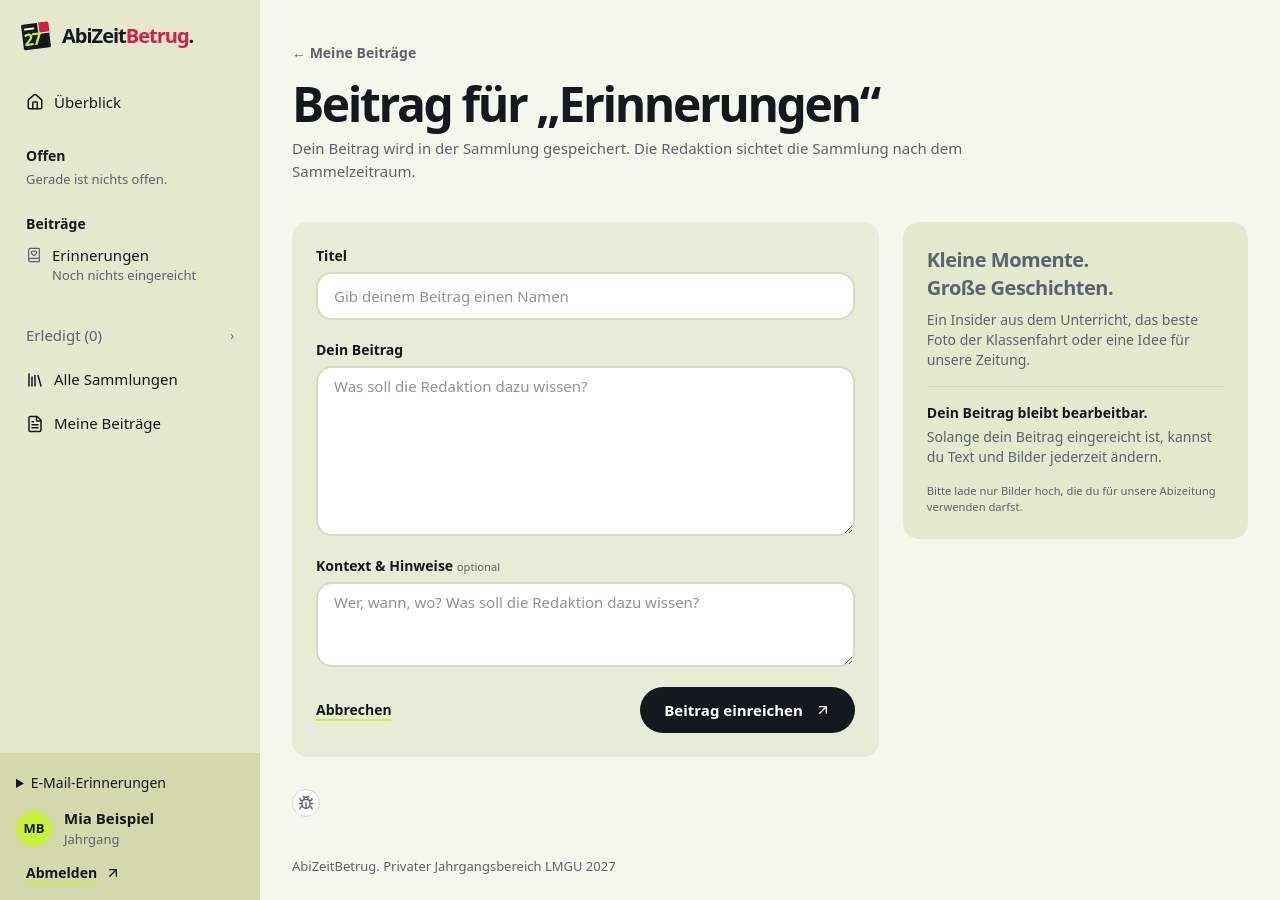
Test: contribution submission › keeps entered fields visible when the server rejects a stale submission
In the field with placeholder "Gib deinem Beitrag einen Namen": [585, 296] box [316, 272, 855, 320], type "Die letzte Freistunde"
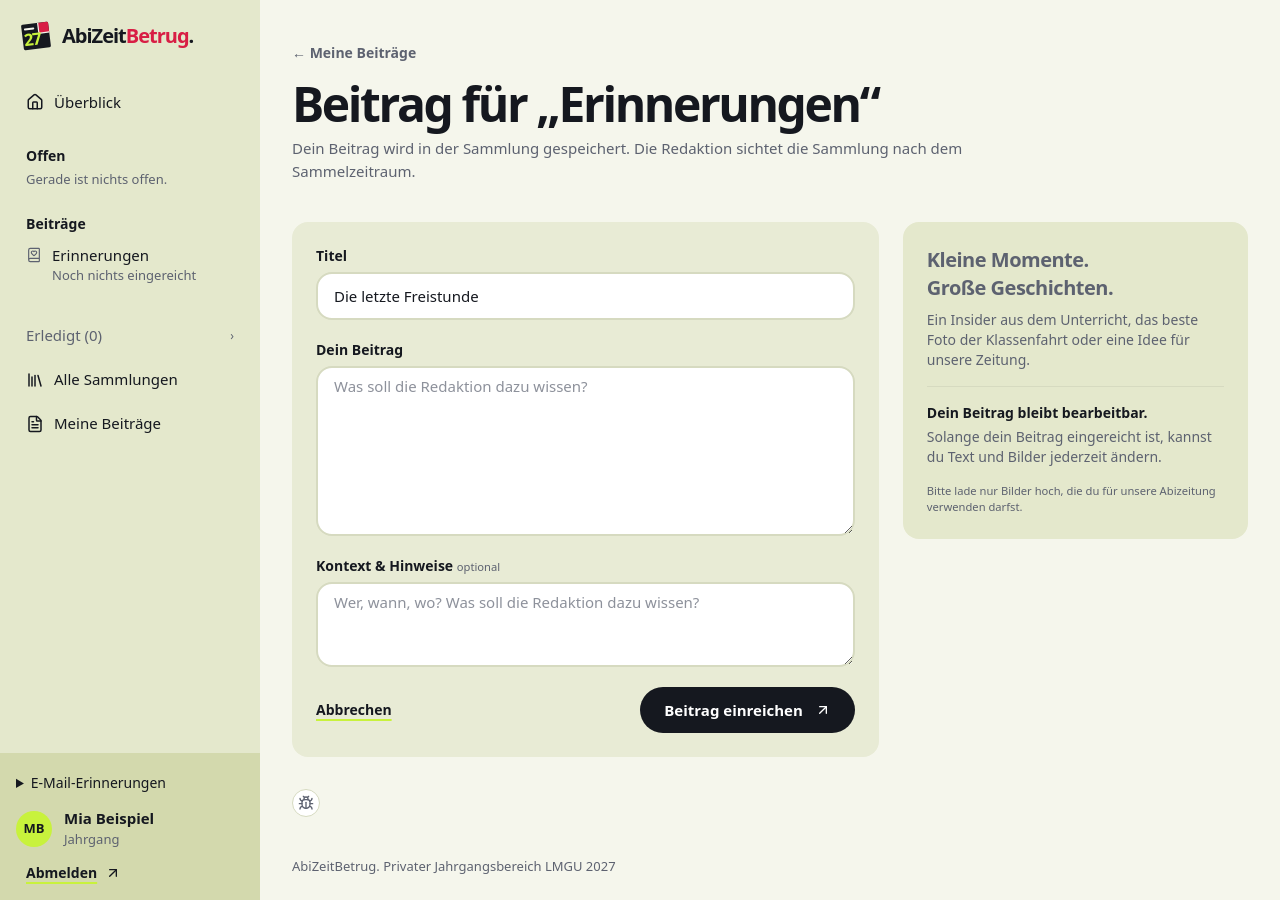
In the text box with placeholder "Was soll die Redaktion dazu wissen?": [585, 451] box [316, 366, 855, 536], type "Wir waren alle dabei."
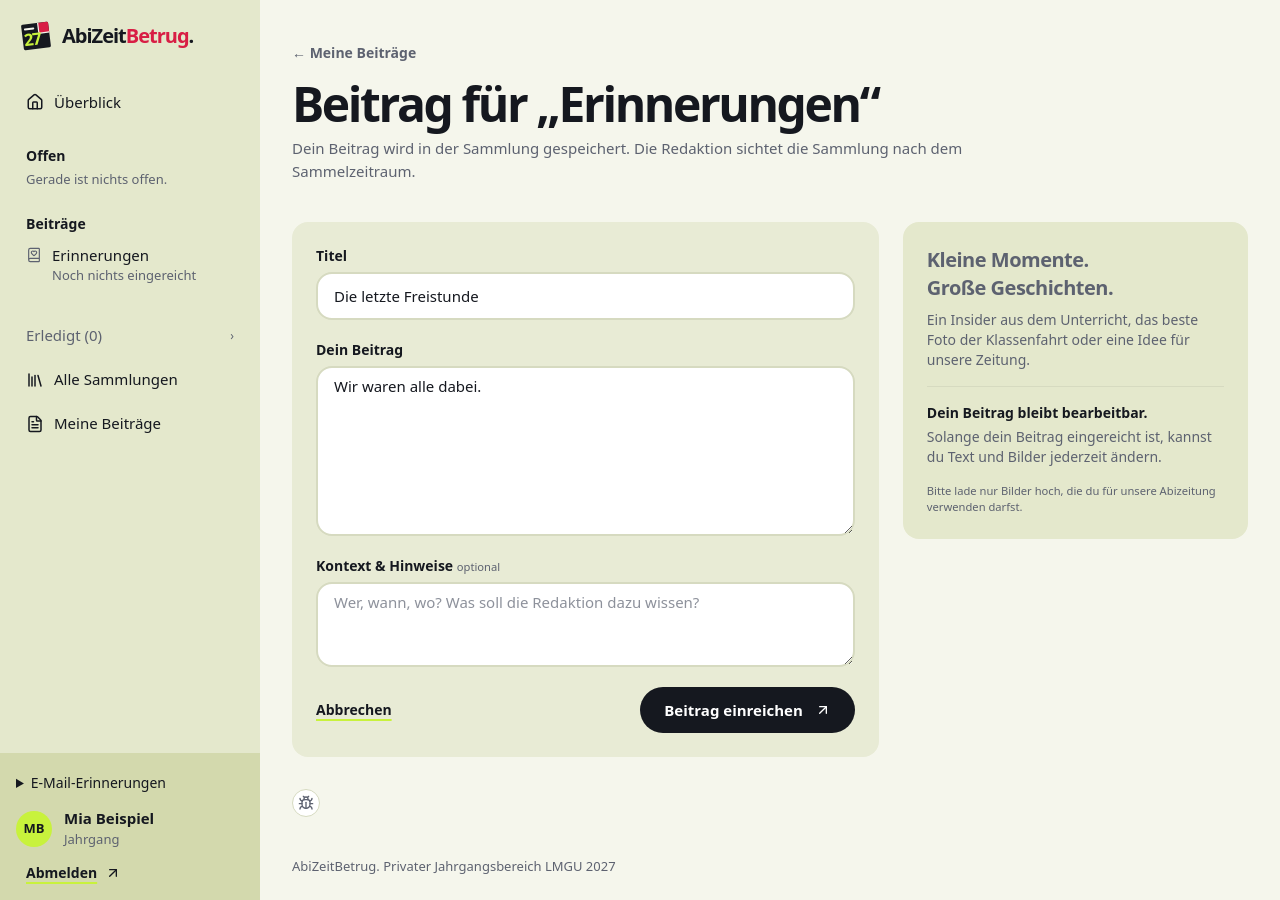
Click the button "Beitrag einreichen": [748, 710] box [640, 687, 855, 733]
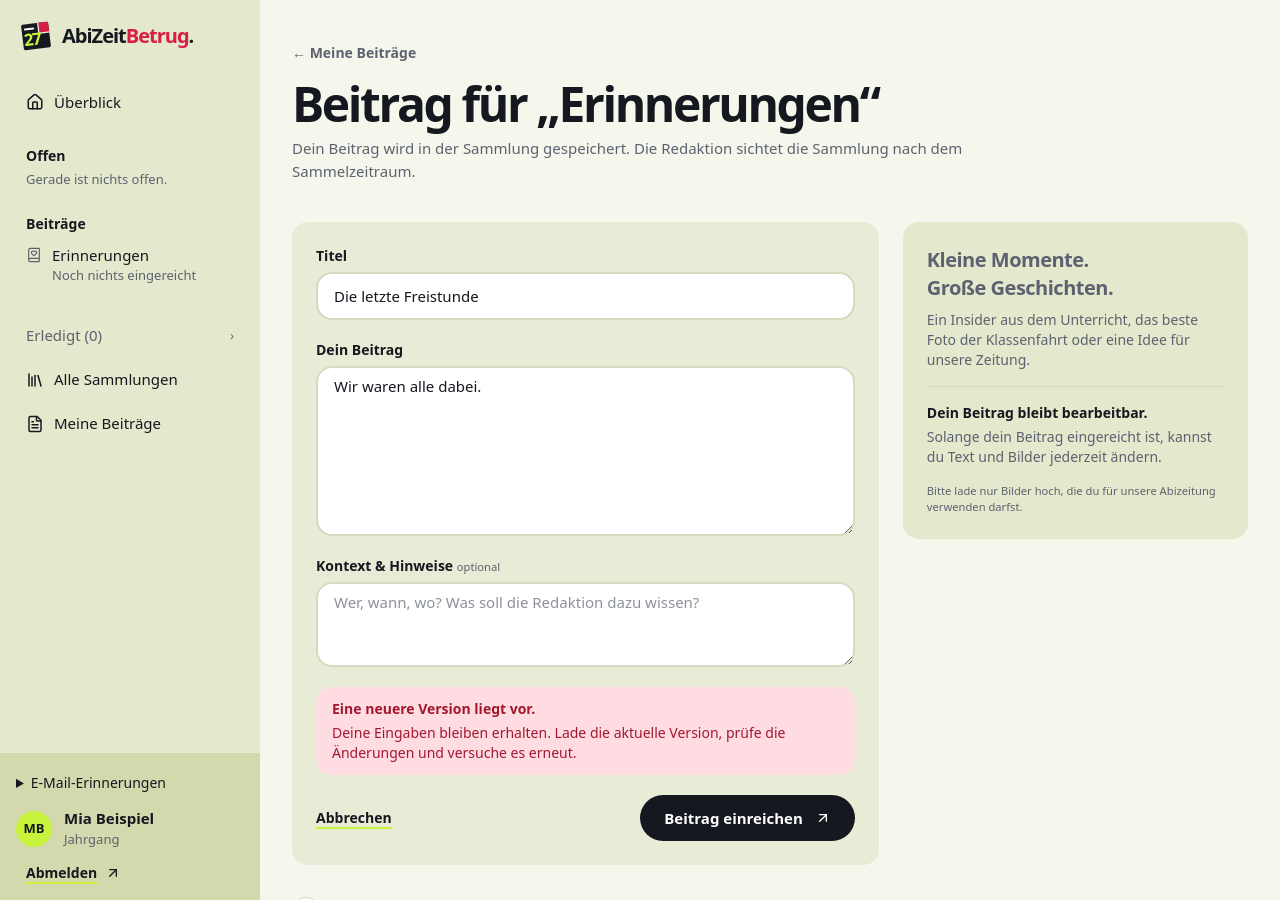
Expected: the message shows "Eine neuere Version liegt vor.", [332, 699, 535, 718]
